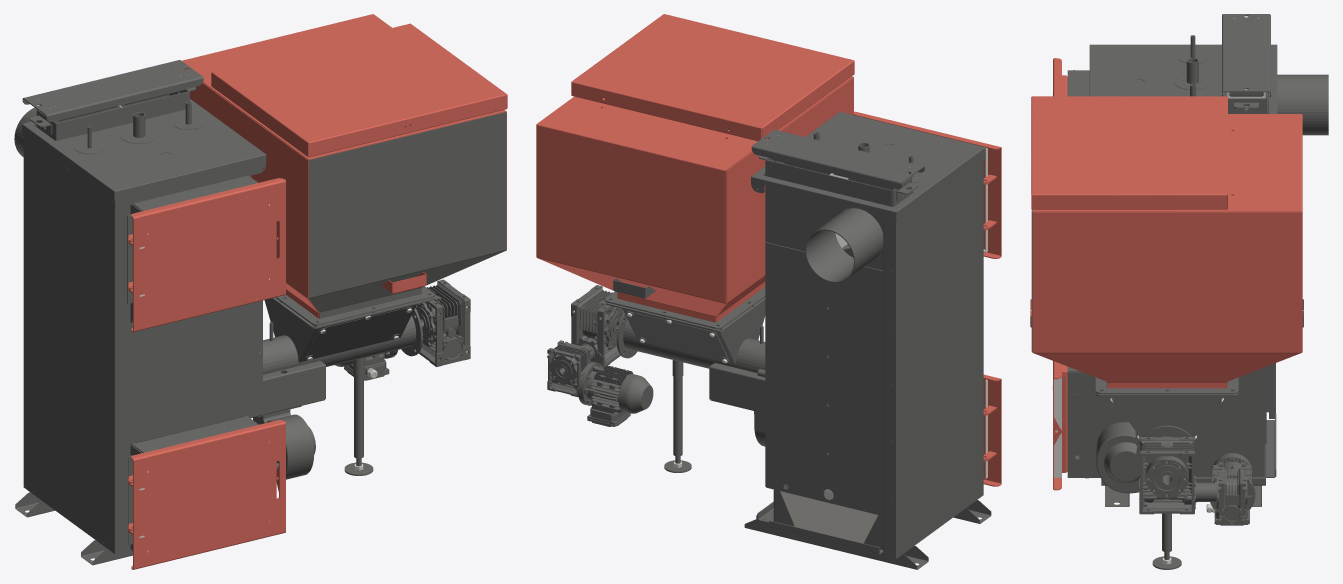
File: k12a_brand_colors_dark_premium_v2.glb
3 renders of one model, left to right at view 1: azimuth 30°, elevation 25°; view 2: azimuth 150°, elevation 25°; view 3: azimuth 270°, elevation 25°, orthographic. The views are drawn at different scales.
Visible parts, largest first — view 1: graphite, red; view 2: graphite, red, bolt; view 3: red, graphite, bolt.
Boxes of the visible parts, <box> form: graphite: <box>14,60,506,565</box>; red: <box>128,14,507,569</box>; graphite: <box>547,77,991,569</box>; red: <box>536,14,1001,486</box>; bolt: <box>627,135,987,543</box>; red: <box>1030,58,1302,490</box>; graphite: <box>1031,14,1328,569</box>; bolt: <box>1052,18,1265,564</box>.
Size of the model in its own units: 1.2 by 1.18 by 0.776.
